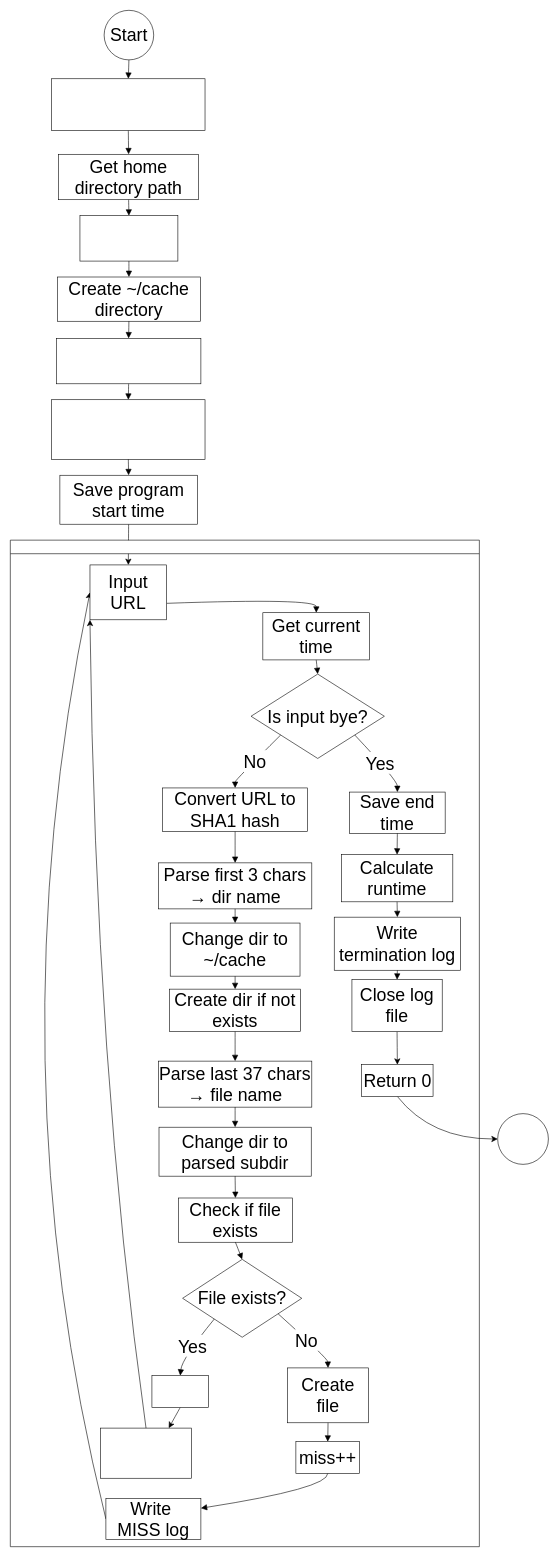
Image size: 559x1557. Some labels were removed from this diagram. The shapes that lost their labels are listed below. From the top down, each one's box as (x1, y1, x2, y2) in pixels, then its label:
(51, 78, 205, 131): Set input_url, hashed_url buffer
(79, 215, 178, 261): Set umask to 0
(56, 338, 201, 384): Create ~/logfile directory
(51, 399, 205, 459): Open logfile.txt in append mode
(10, 540, 479, 1547): while (1)
(497, 1113, 548, 1164): End
(151, 1375, 209, 1407): hit++
(100, 1428, 191, 1478): Write HIT log
